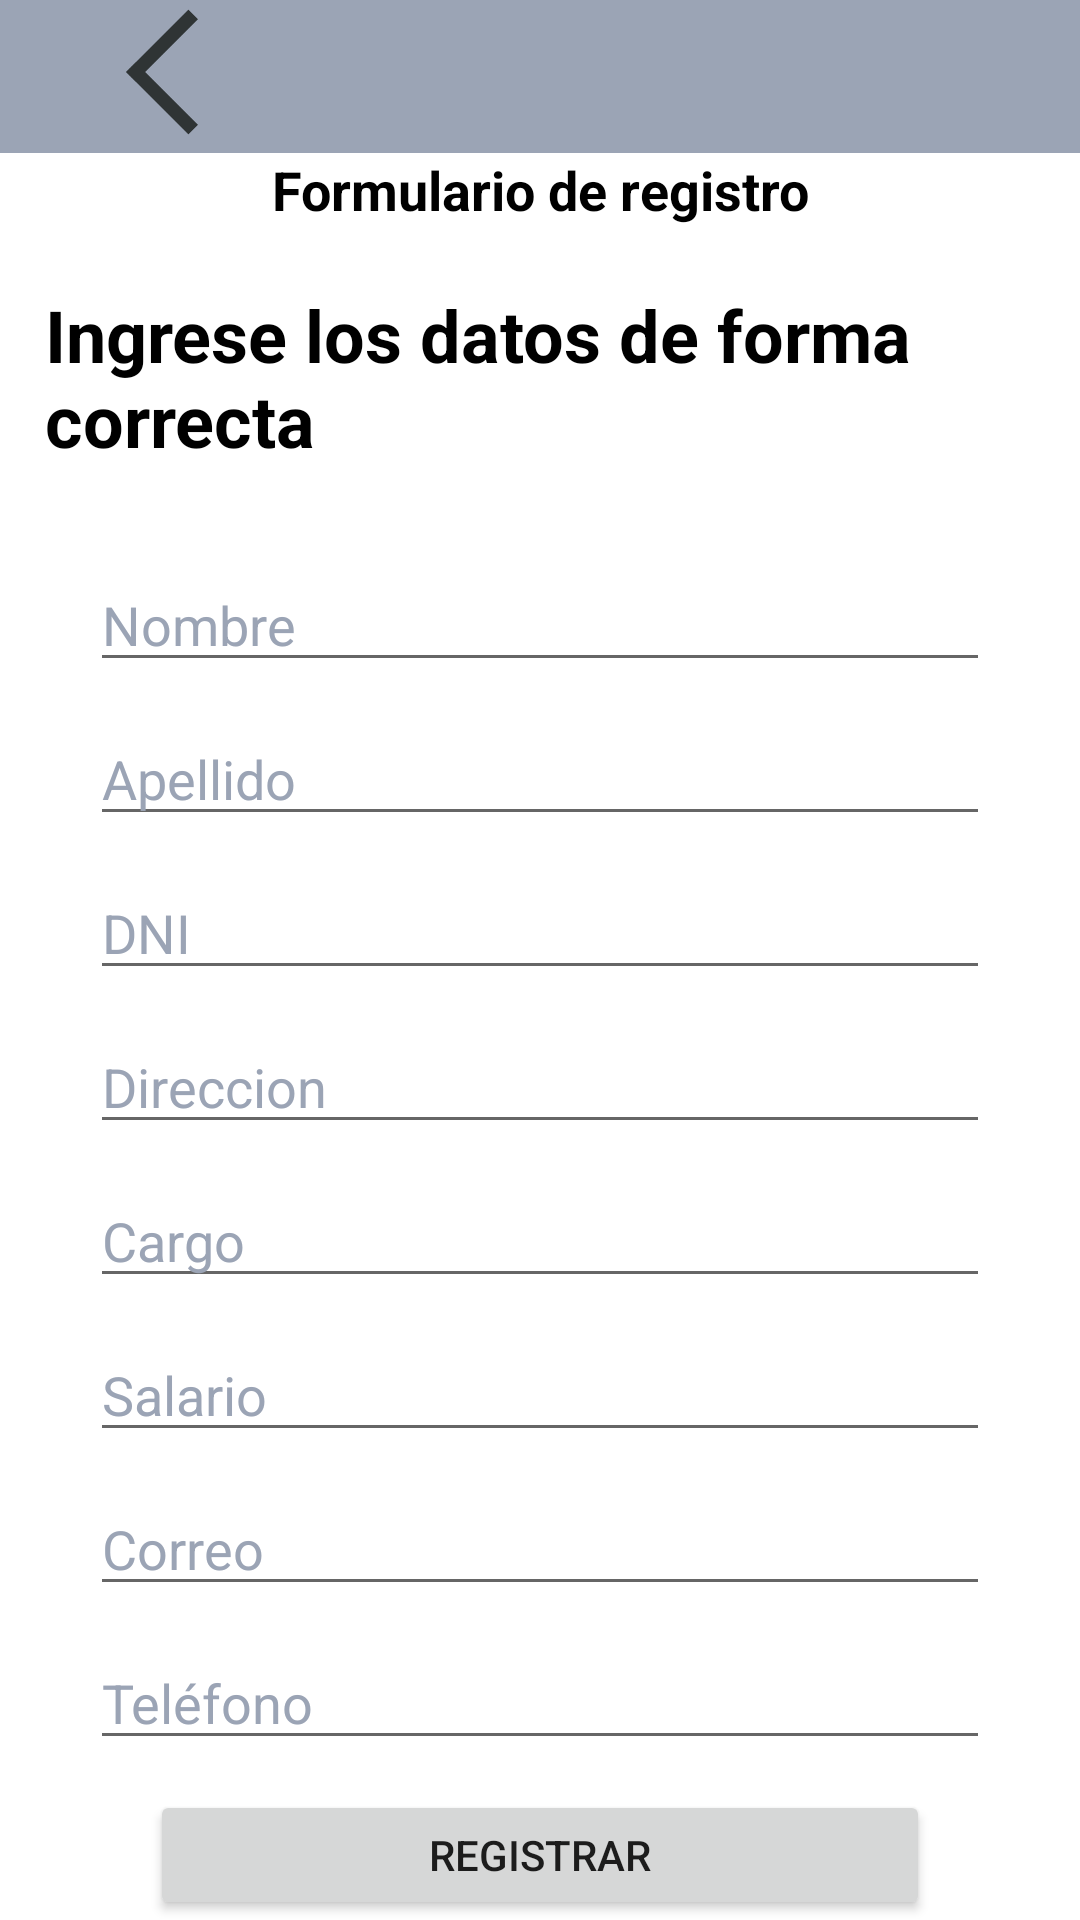

Named icons in this screenshot (1080px x 1920px) and their centers, point (x, y):
fllecha: point (162, 72)
